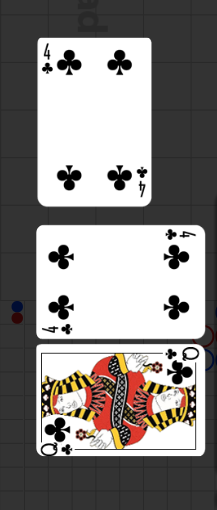4C: (163, 228, 197, 243), (41, 42, 55, 77)
QC: (36, 411, 83, 455), (157, 344, 203, 388)
